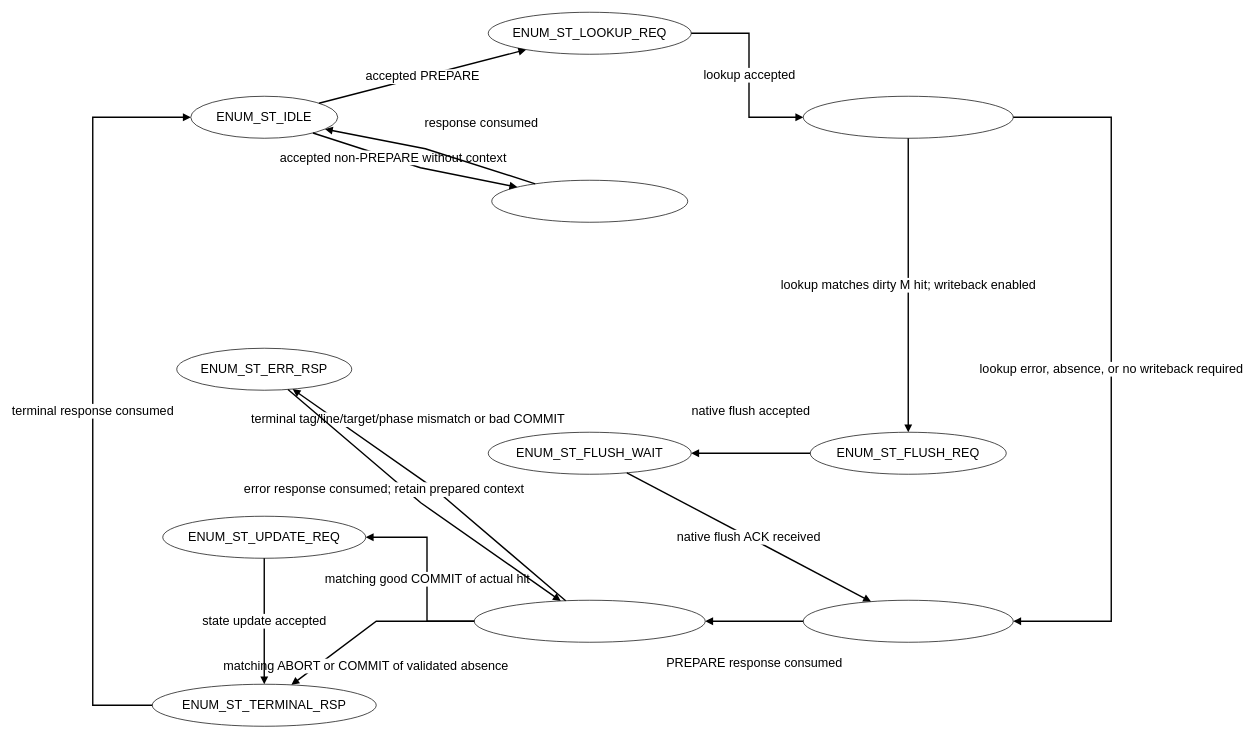
Image size: 1255x739. Some labels were removed from this diagram. Each missing label, with the centre of its shape:
ENUM_ST_LOOKUP_WAIT: point (908, 117)
ENUM_ST_PREPARE_RSP: point (908, 621)
ENUM_ST_STRAY_RSP: point (589, 201)
ENUM_ST_TERMINAL_WAIT: point (589, 621)
